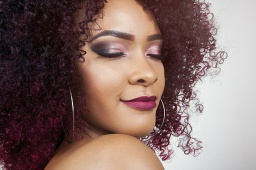female: (72, 7, 166, 142)
